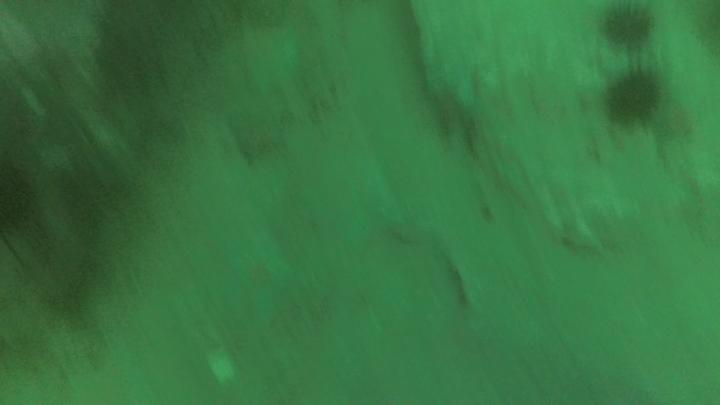echinus: (600, 51, 679, 131), (598, 4, 664, 55)
